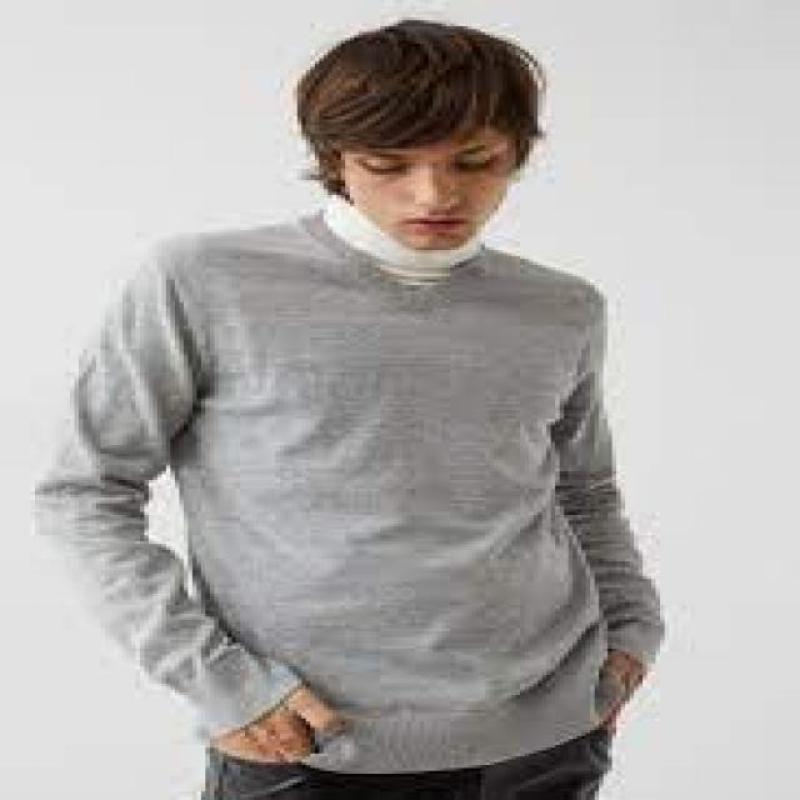sweater: (27, 210, 668, 769)
